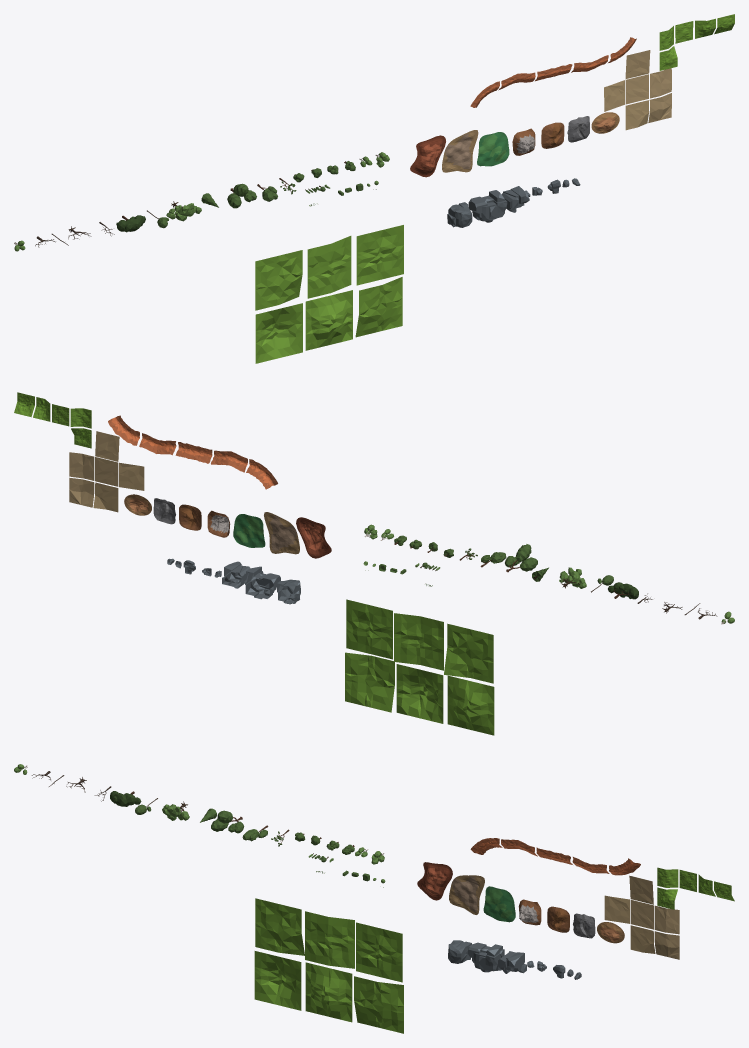
File: landscape.glb
The picture shows the model from 3 angles, top to bottom: view 1: azimuth 30°, elevation 25°; view 2: azimuth 150°, elevation 25°; view 3: azimuth 330°, elevation 25°; orthographic projection.
Visible parts, largest first — view 1: ground_01, ground_05, ground_06, ground_03, ground_02, ground_04, Land_04_F, Land_04_G, Land_04_E, rock_02, Land_03_C, Land_03_E (+1 smaller); view 2: ground_04, ground_02, ground_03, ground_06, ground_05, ground_01, Land_04_F, Land_04_G, Land_04_E, rock_02, Land_03_F, Land_03_D (+5 smaller); view 3: ground_02, ground_05, ground_06, ground_03, ground_01, ground_04, Land_04_F, Land_04_G, Land_04_E, rock_02, Land_03_B, Land_03_D (+11 smaller).
Part boxes in pixels (x1,y1,x2,y2): ground_01: (356,225,403,285); ground_05: (305,290,352,350); ground_06: (255,303,302,363); ground_03: (255,250,302,310); ground_02: (307,236,351,298); ground_04: (355,277,402,337); Land_04_F: (442,130,478,172); Land_04_G: (410,135,445,177); Land_04_E: (477,132,509,166); rock_02: (468,190,507,222); Land_03_C: (625,74,648,104); Land_03_E: (625,100,649,130); ground_04: (345,652,394,712); ground_02: (394,613,443,670); ground_03: (444,623,493,683); ground_06: (447,675,494,735); ground_05: (396,664,443,723); ground_01: (346,599,392,659); Land_04_F: (264,512,299,554); Land_04_G: (296,517,331,558); Land_04_E: (233,514,265,547); rock_02: (244,566,280,599); Land_03_F: (69,477,94,507); Land_03_D: (69,452,94,480); ground_02: (305,911,354,968); ground_05: (305,962,352,1022); ground_06: (254,951,301,1010); ground_03: (255,898,304,955); ground_01: (356,922,402,982); ground_04: (354,976,403,1033); Land_04_F: (449,875,484,914); Land_04_G: (417,862,452,900); Land_04_E: (483,886,515,922); rock_02: (468,942,504,972); Land_03_B: (604,895,629,923); Land_03_D: (654,905,679,934).
Bounding box in the file's own units: 245 × 75.69 × 12.79.
Materials: 1 (1 with a texture image).
